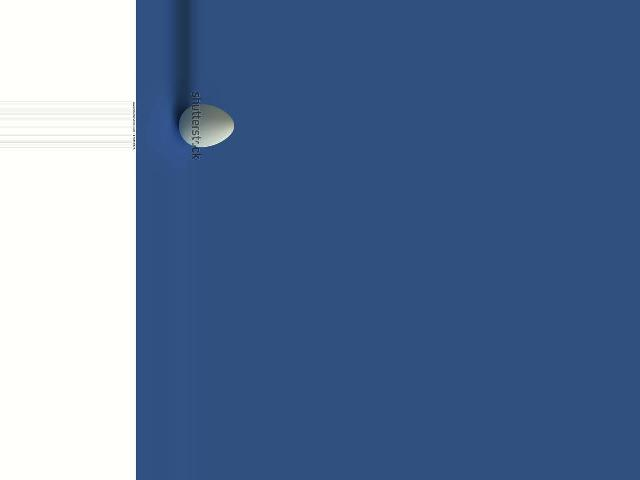egg: (178, 104, 234, 147)
